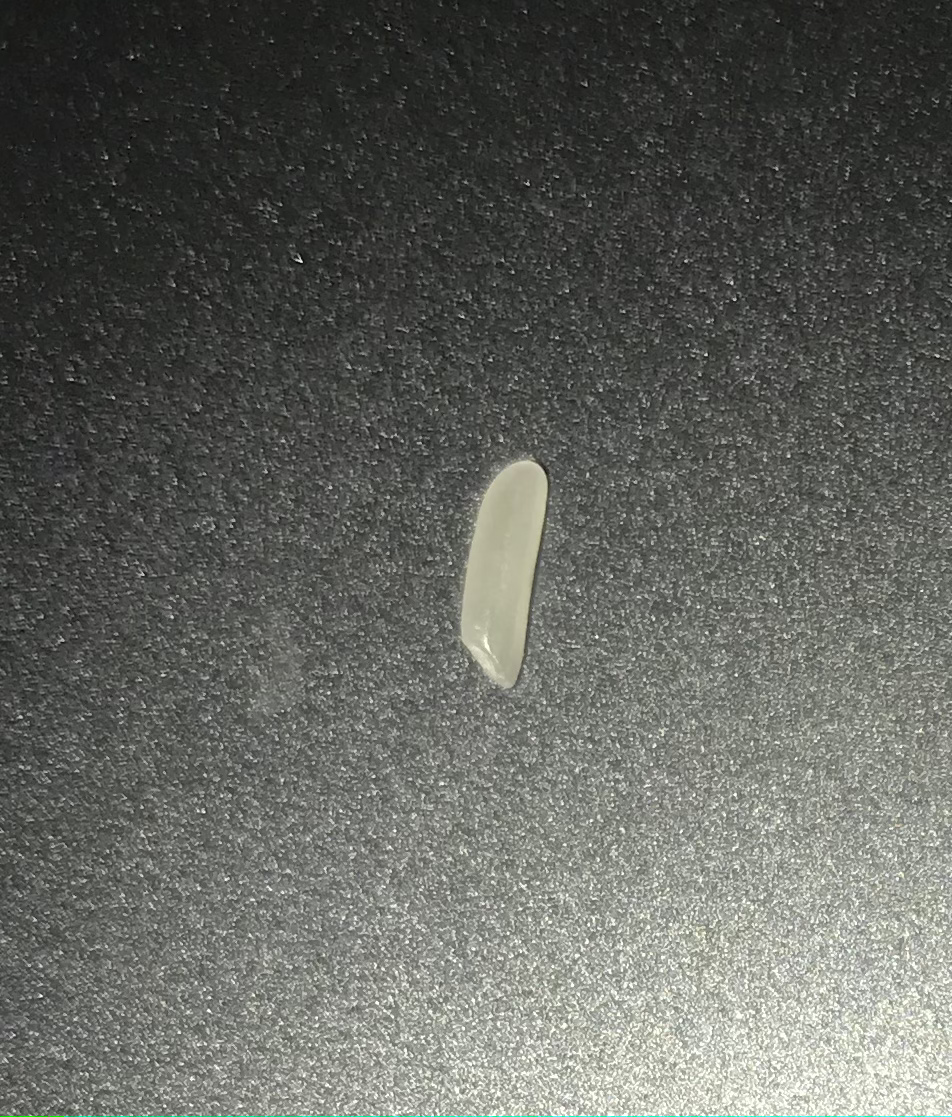Gao Long Lai: (430, 450, 580, 745)
